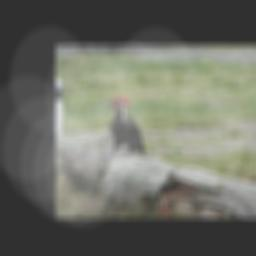Woodpecker: (100, 94, 147, 158)
